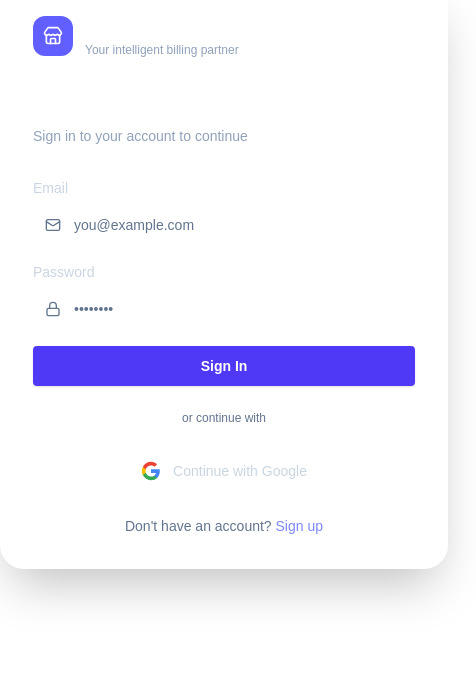
Test: LoginPage › shows auth error when password login fails
The width and height of the screenshot is (476, 684).
Type "demo@example.com" into the field with placeholder "you@example.com" at (224, 225), box [33, 204, 415, 246]
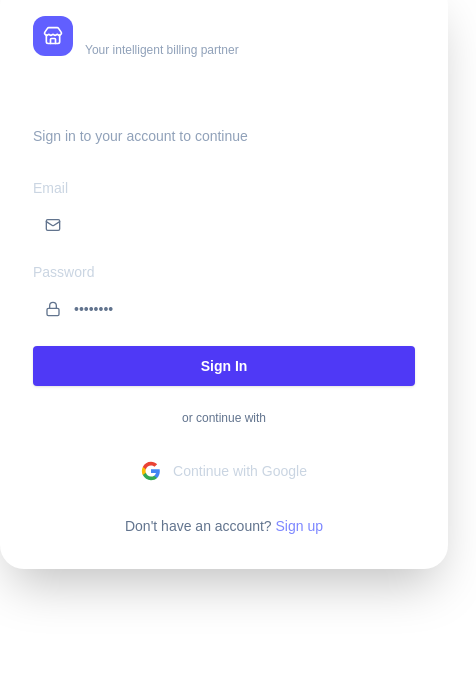
Type "wrong-pass" into the password field with placeholder "••••••••" at (224, 309), box [33, 288, 415, 330]
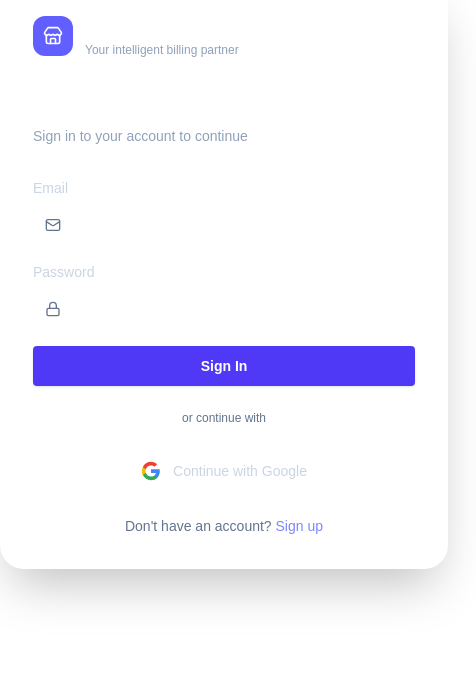
Click the button "Sign In" at (224, 366), box [33, 346, 415, 386]
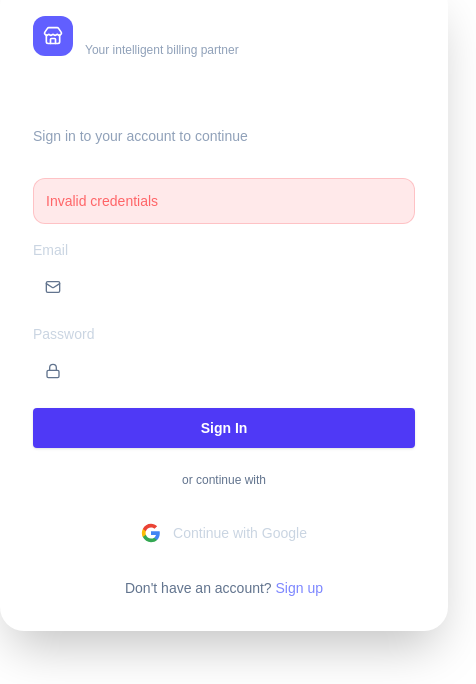
Check: the text "Invalid credentials" is shown, box [33, 178, 415, 224]
